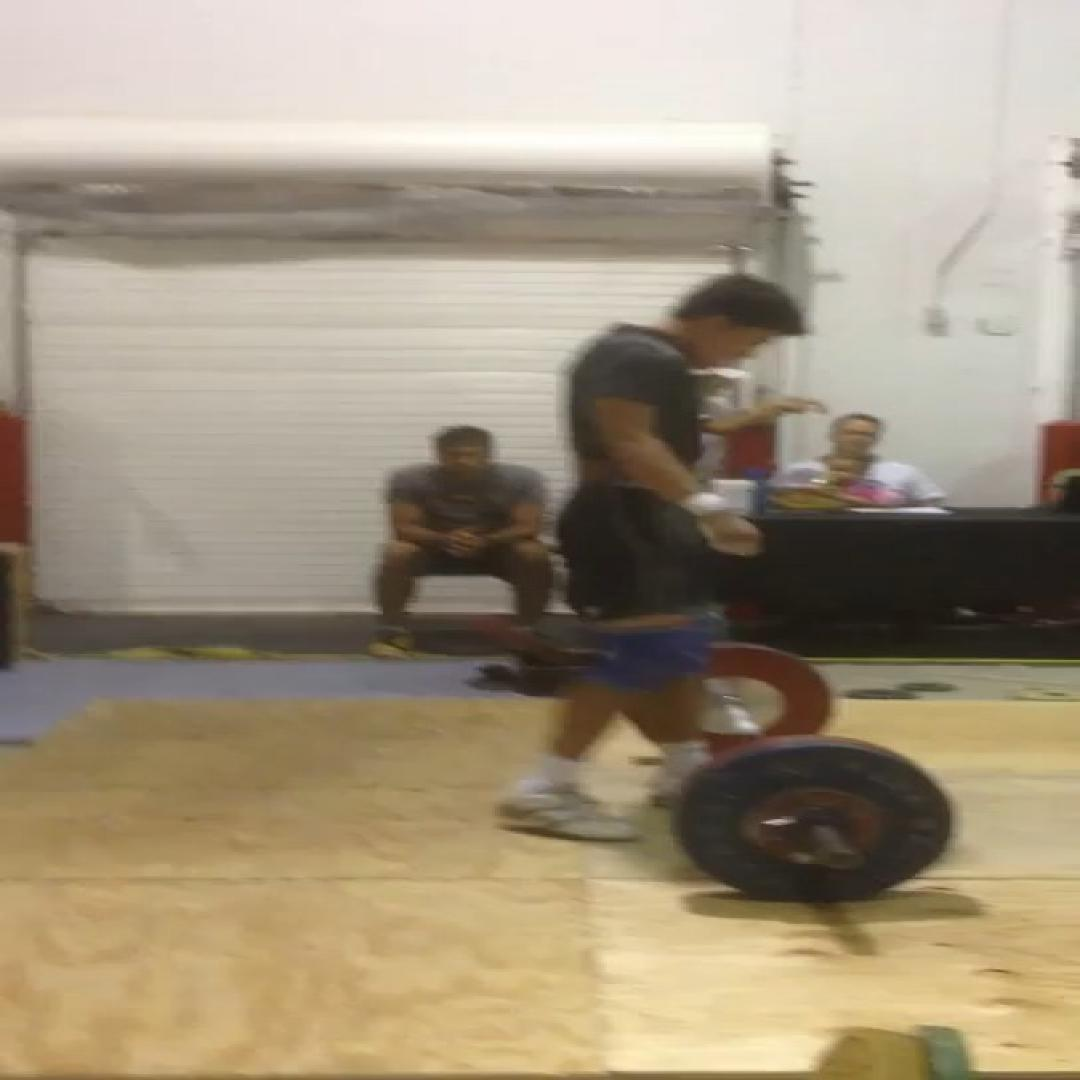Bar: (828, 849, 864, 871)
Barbell: (673, 744, 952, 902)
